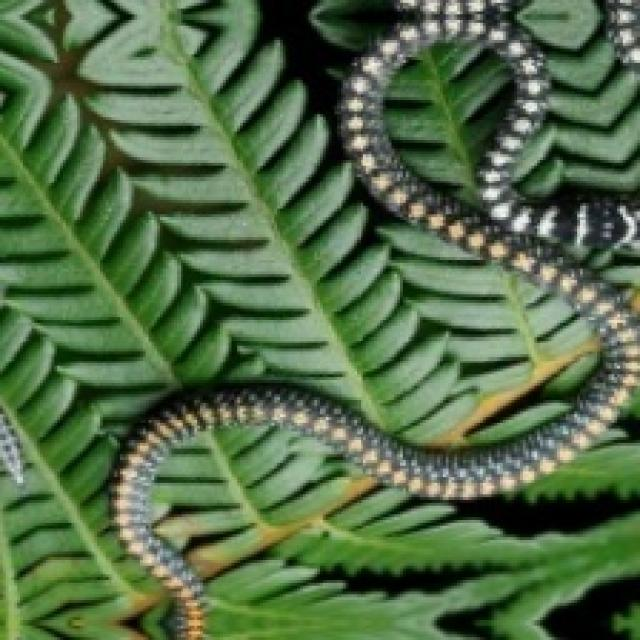paradise tree snake: (100, 3, 597, 446), (154, 426, 637, 637), (391, 46, 509, 200)
